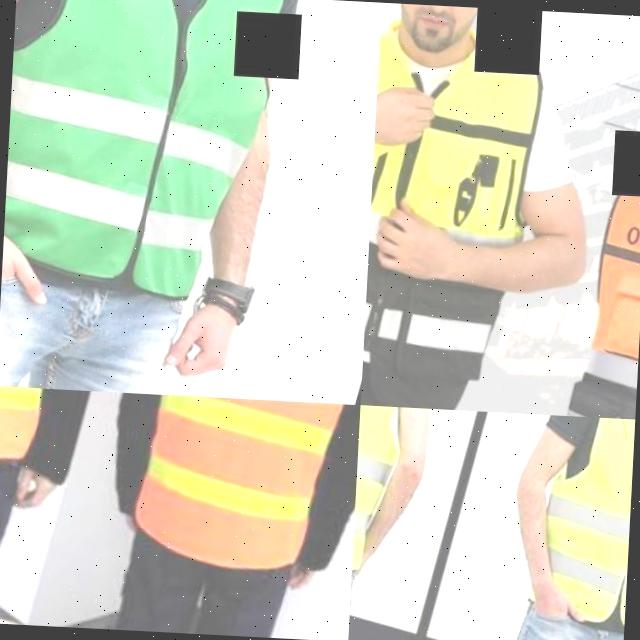vest: (1, 0, 312, 312), (368, 3, 568, 276), (104, 392, 360, 593), (518, 414, 635, 640), (551, 158, 640, 419)
